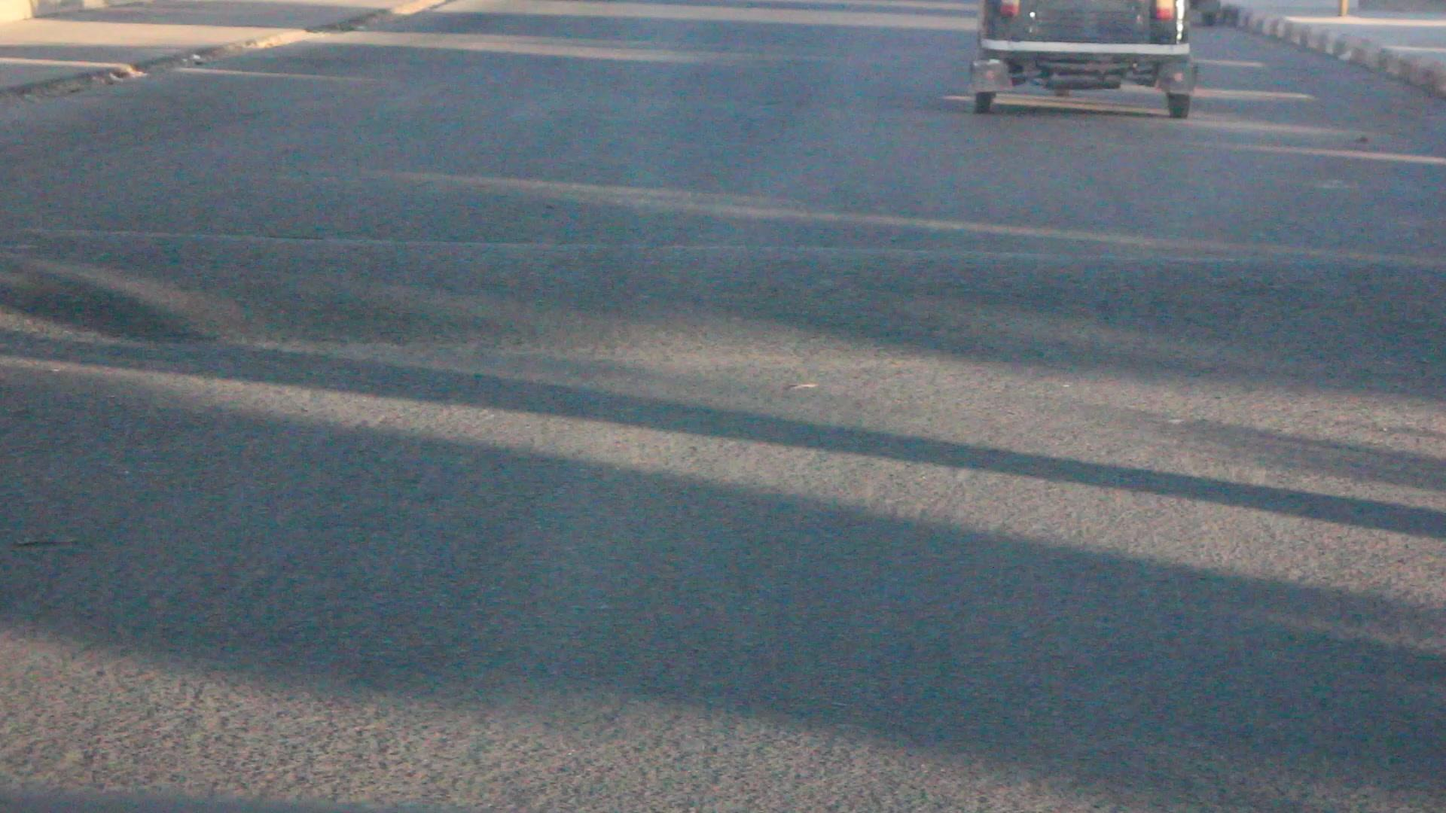Bump: (0, 227, 1445, 396)
